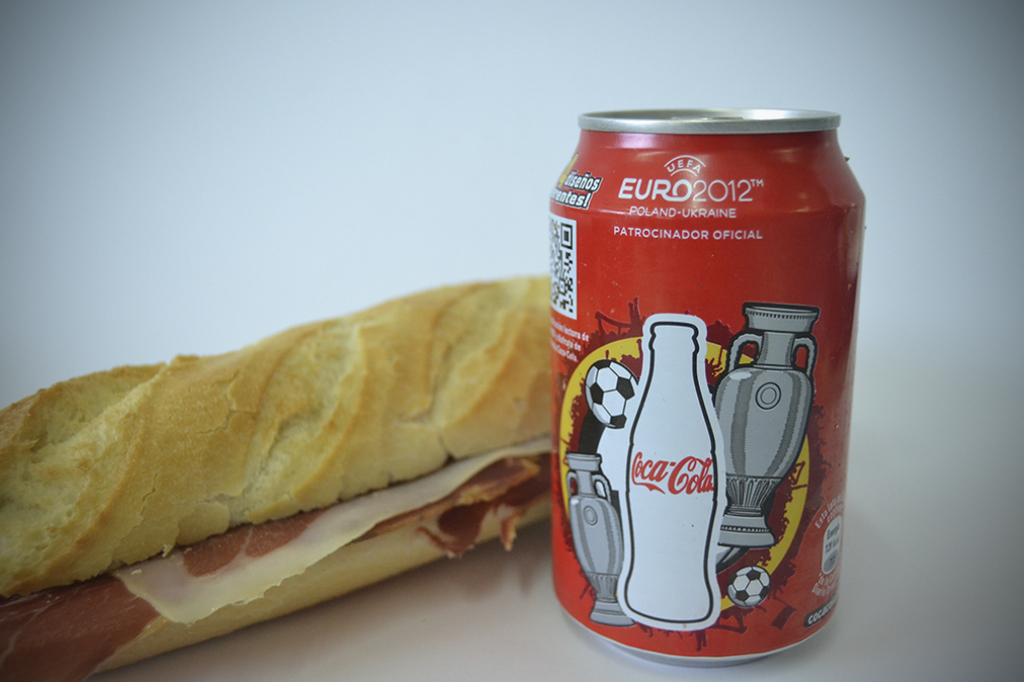hot_dog: (0, 149, 627, 644)
